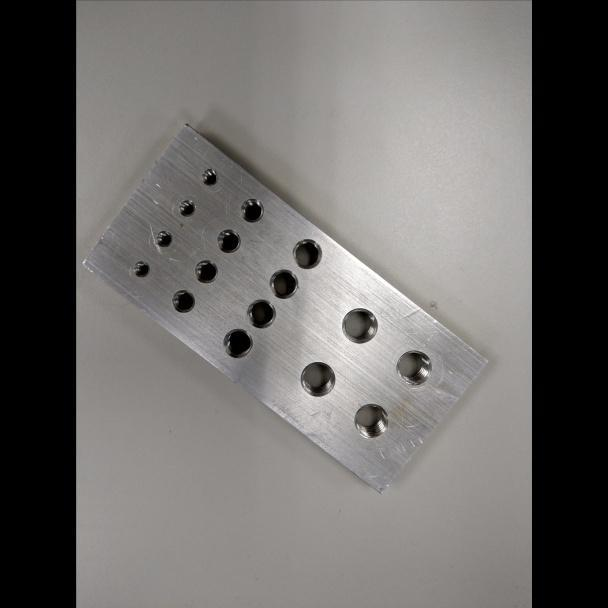hole: (298, 360, 337, 398), (339, 307, 378, 345), (394, 350, 432, 387), (352, 402, 389, 439), (290, 237, 323, 269), (267, 268, 299, 300), (221, 328, 253, 359), (245, 298, 276, 329), (239, 197, 264, 223), (170, 289, 195, 313), (216, 228, 240, 253), (193, 259, 217, 283), (200, 167, 219, 186), (155, 229, 173, 248), (177, 199, 195, 217), (132, 260, 150, 277)
